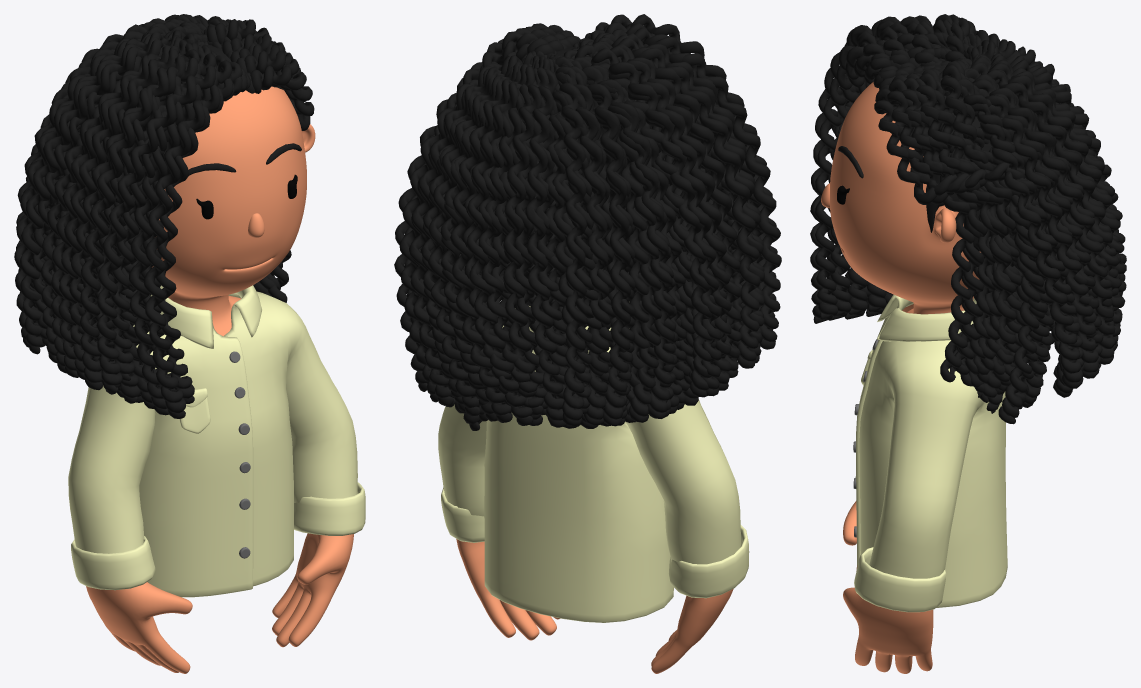
3 renders of one model, left to right at view 1: azimuth 30°, elevation 25°; view 2: azimuth 150°, elevation 25°; view 3: azimuth 270°, elevation 25°, orthographic. The views are drawn at different scales.
Parts seen in each view (by area): view 1: Hair13, Shirt, head, body; view 2: Hair13, Shirt, body; view 3: Hair13, Shirt, head, body.
Boxes of the visible parts, x1,y1,x2,y2 form: Hair13: (14, 14, 314, 418); Shirt: (68, 285, 365, 597); head: (152, 86, 315, 336); body: (86, 533, 353, 673); Hair13: (394, 14, 781, 430); Shirt: (438, 306, 749, 622); body: (456, 539, 733, 673); Hair13: (810, 14, 1126, 424); Shirt: (853, 294, 1007, 612); head: (830, 82, 980, 314); body: (843, 304, 933, 673).
Bounding box in the file's own units: 6.93 × 13.33 × 6.32.
